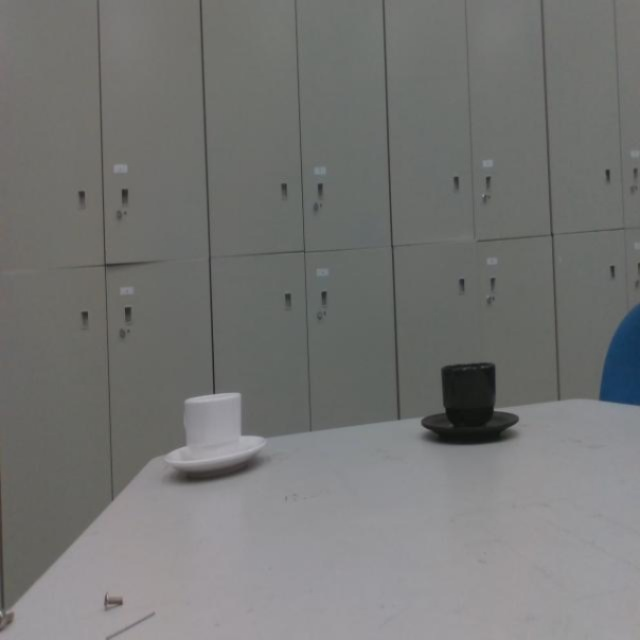black: (418, 352, 522, 452)
white: (165, 375, 265, 477)
